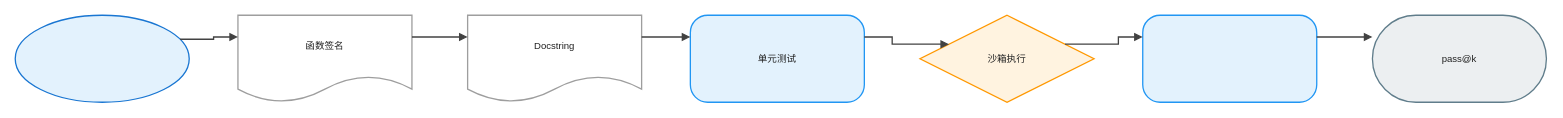
The diagram is 1563 pixels wide and 118 high, and some of its shapes have lost their labels. The centre of each missing label's shape, as x and y in pixels:
"代码样本" goes at point 1229,58.
"手写题目" goes at point 101,58.
